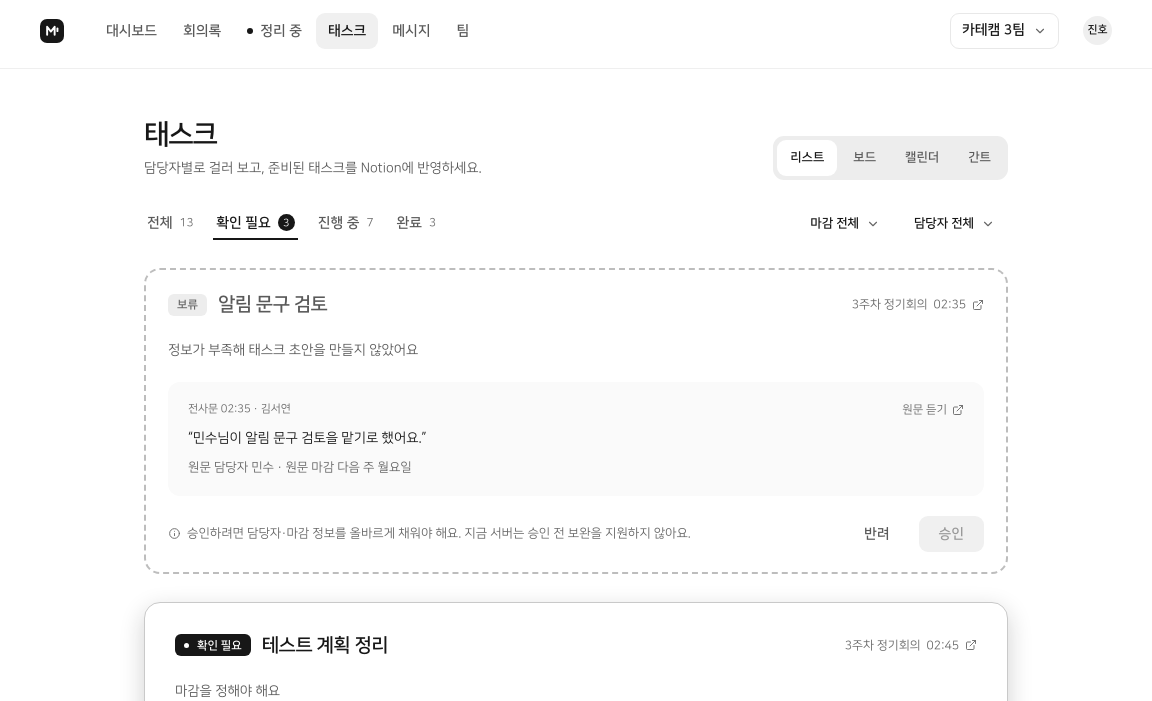
Test: 보기 전환 (Tasks 시안 4장) › 리스트·보드·캘린더·간트를 오른쪽 위에서 고르고, 확인 필요 아래에 이미 반영된 일이 있다
Click the radio button labelled "보드".
click(865, 158)  # box [840,140,889,176]
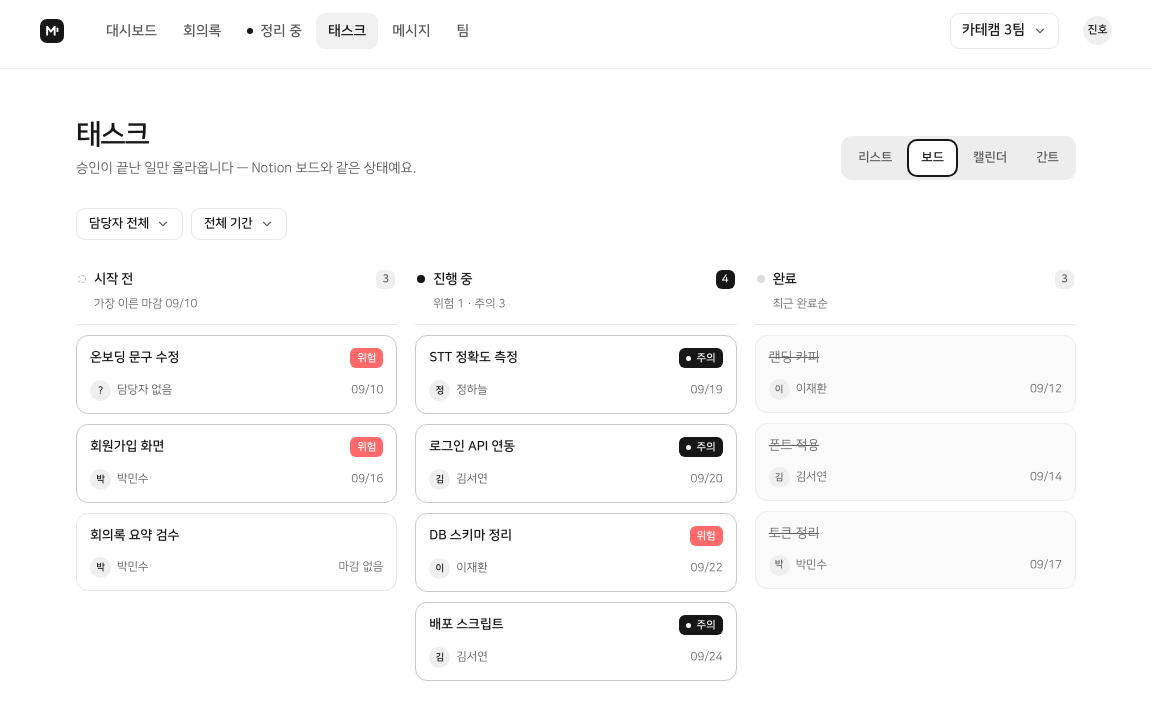
Now the element "시작 전" is shown, box [76,268,397,591]
Now the element "진행 중" is shown, box [415,268,737,681]
Now the element "완료" is shown, box [755,268,1076,589]
Click the radio button labelled "캘린더".
click(990, 158)  # box [960,140,1020,176]
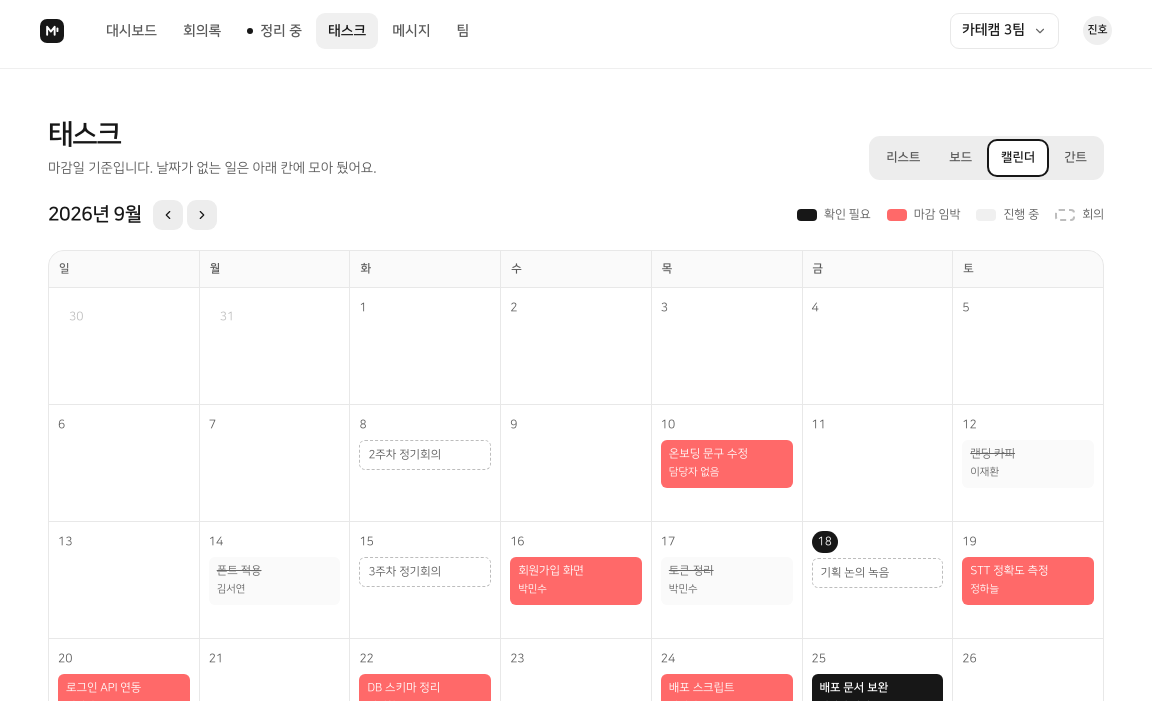
Click the radio button labelled "간트".
click(1076, 158)  # box [1051,140,1100,176]
(page scrolled)
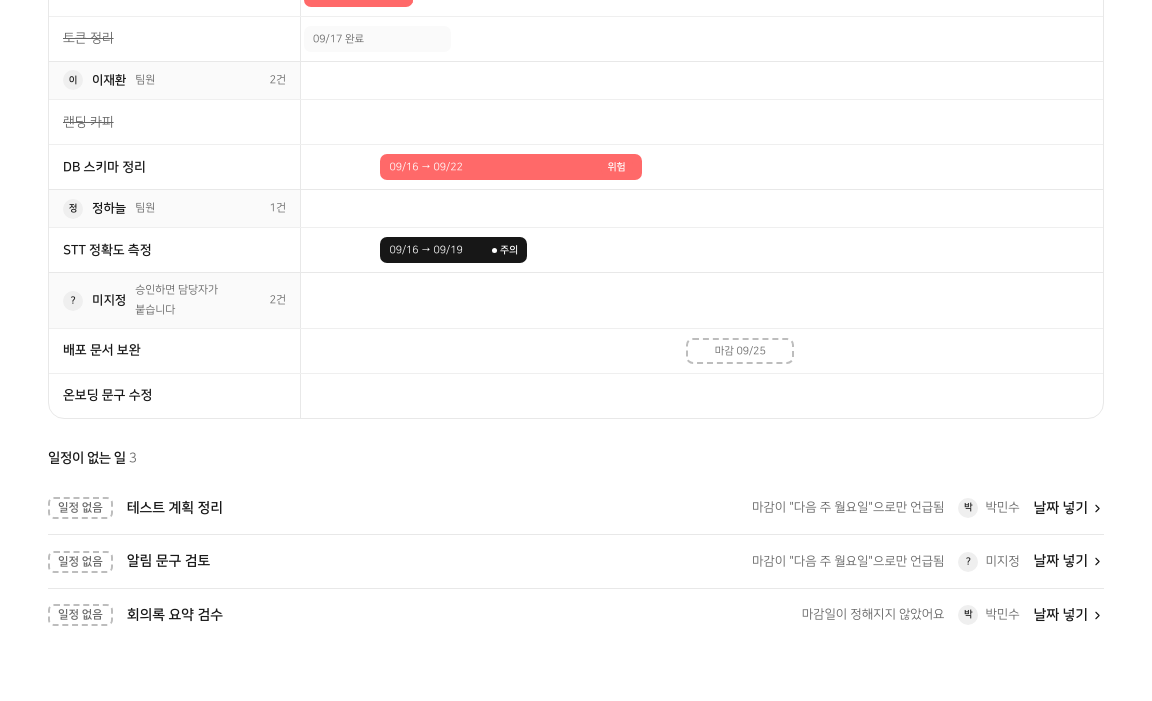
Now the element "일정이 없는 일" is shown, box [48,439,1104,641]
